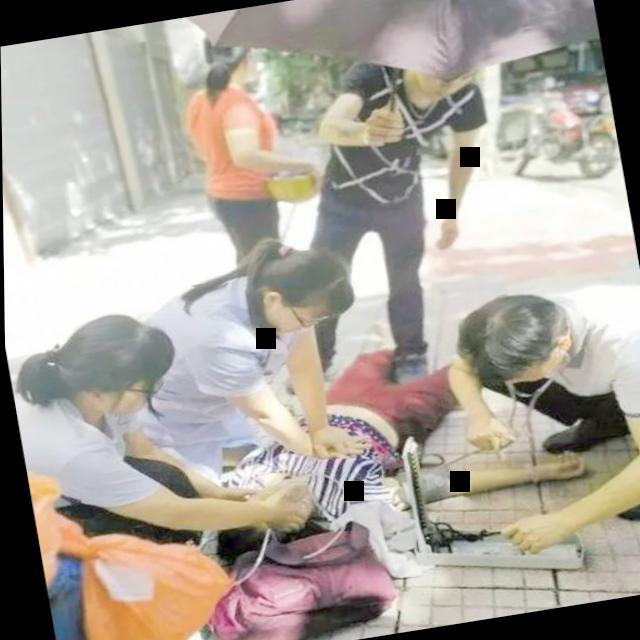Fall-Detected: (144, 294, 558, 640)
